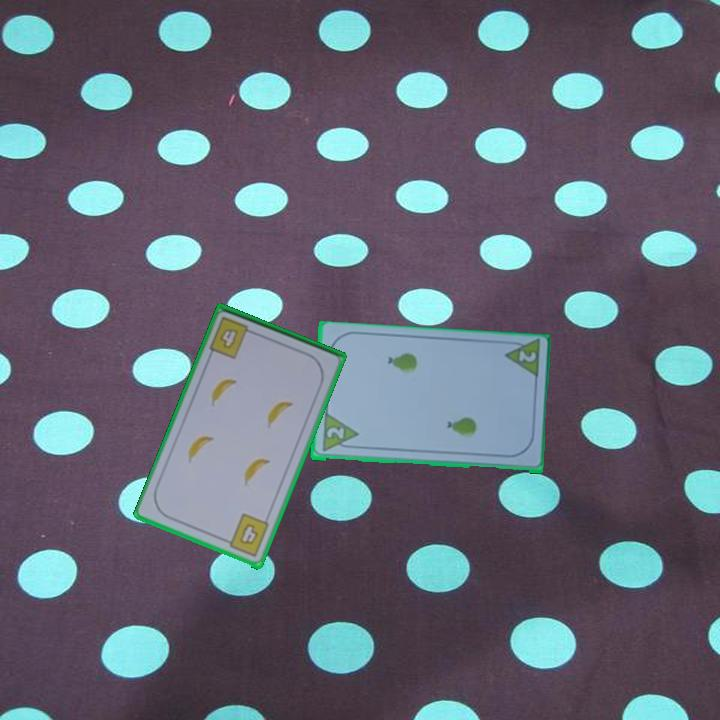2p: (323, 424, 347, 442), (515, 348, 539, 365)
4b: (220, 510, 272, 560), (216, 325, 241, 352)
